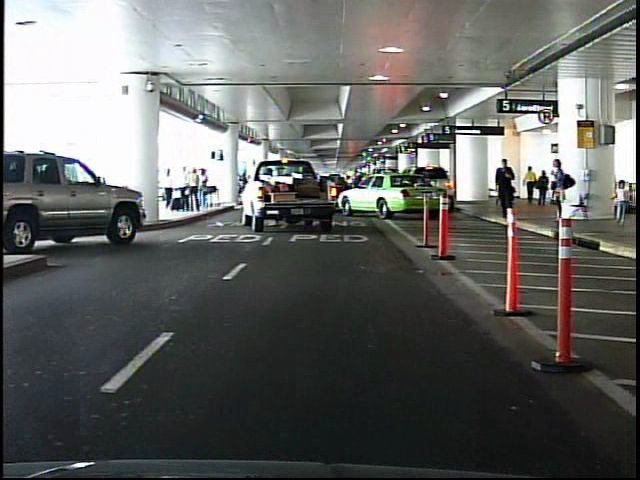person: (546, 156, 573, 226), (493, 156, 516, 220), (609, 177, 629, 228), (525, 166, 536, 204), (538, 171, 549, 208)
